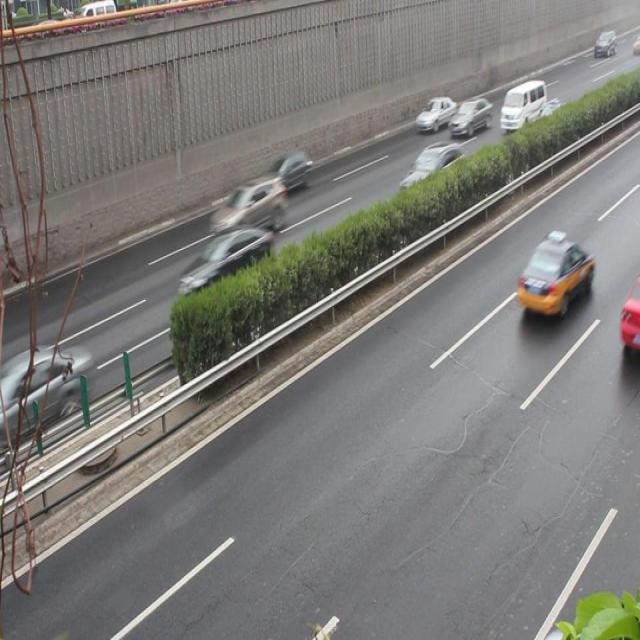car: (178, 227, 272, 306), (1, 346, 90, 424), (517, 232, 592, 318), (208, 174, 285, 240), (397, 142, 466, 201), (261, 150, 310, 194), (448, 98, 492, 136), (413, 96, 456, 134), (528, 100, 568, 138)
truck: (498, 79, 546, 127)
